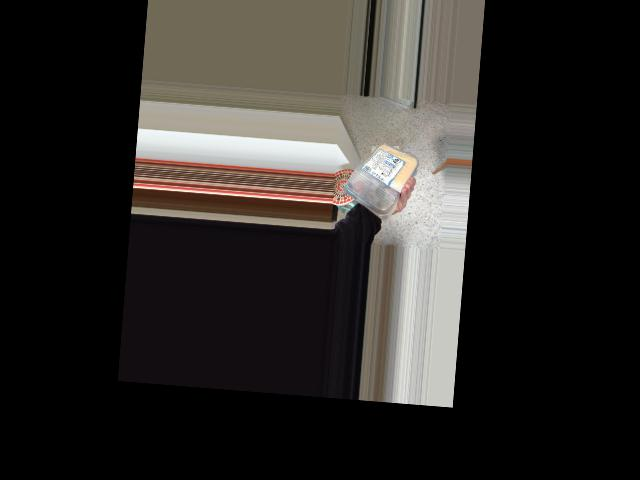cheese: (343, 138, 410, 212)
